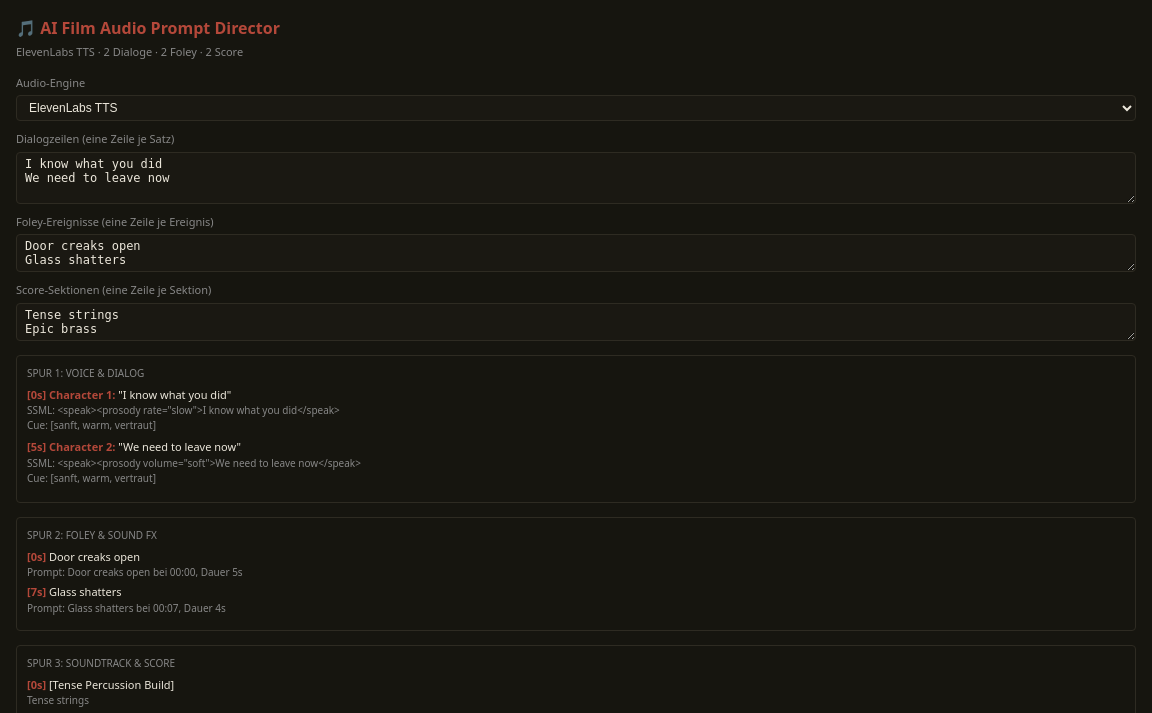
Test: AiFilmAudioPromptGeneratorModal › reagiert auf Foley-Eingabe
The width and height of the screenshot is (1152, 713).
Step 1. Replace the text in the text box with test id "audio-foley-input" with "New foley" → (576, 253), box [16,234,1136,272]
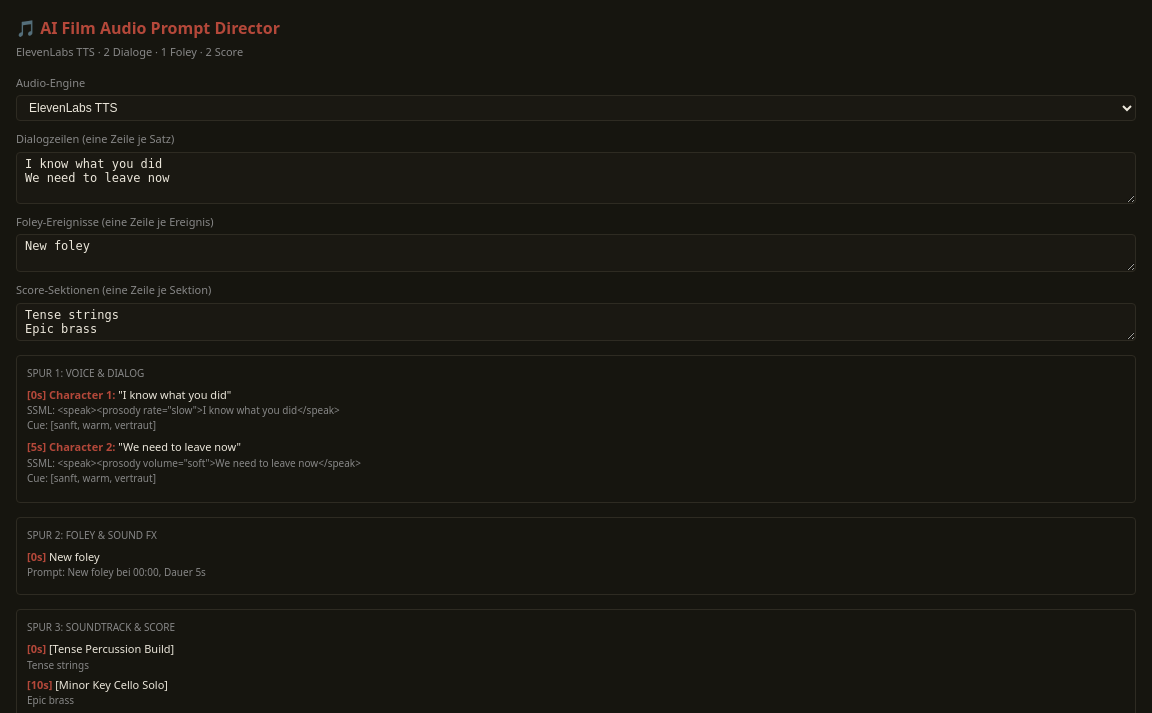
Now the element with test id "audio-foley-0" shows "New foley", box [49,548,100,564]
